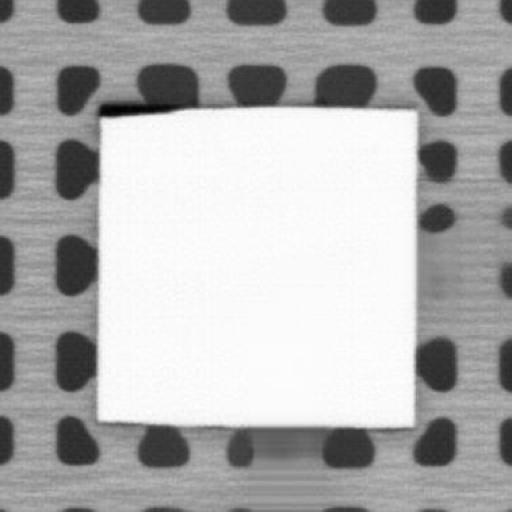DIE_BROKEN: (95, 100, 184, 116)
